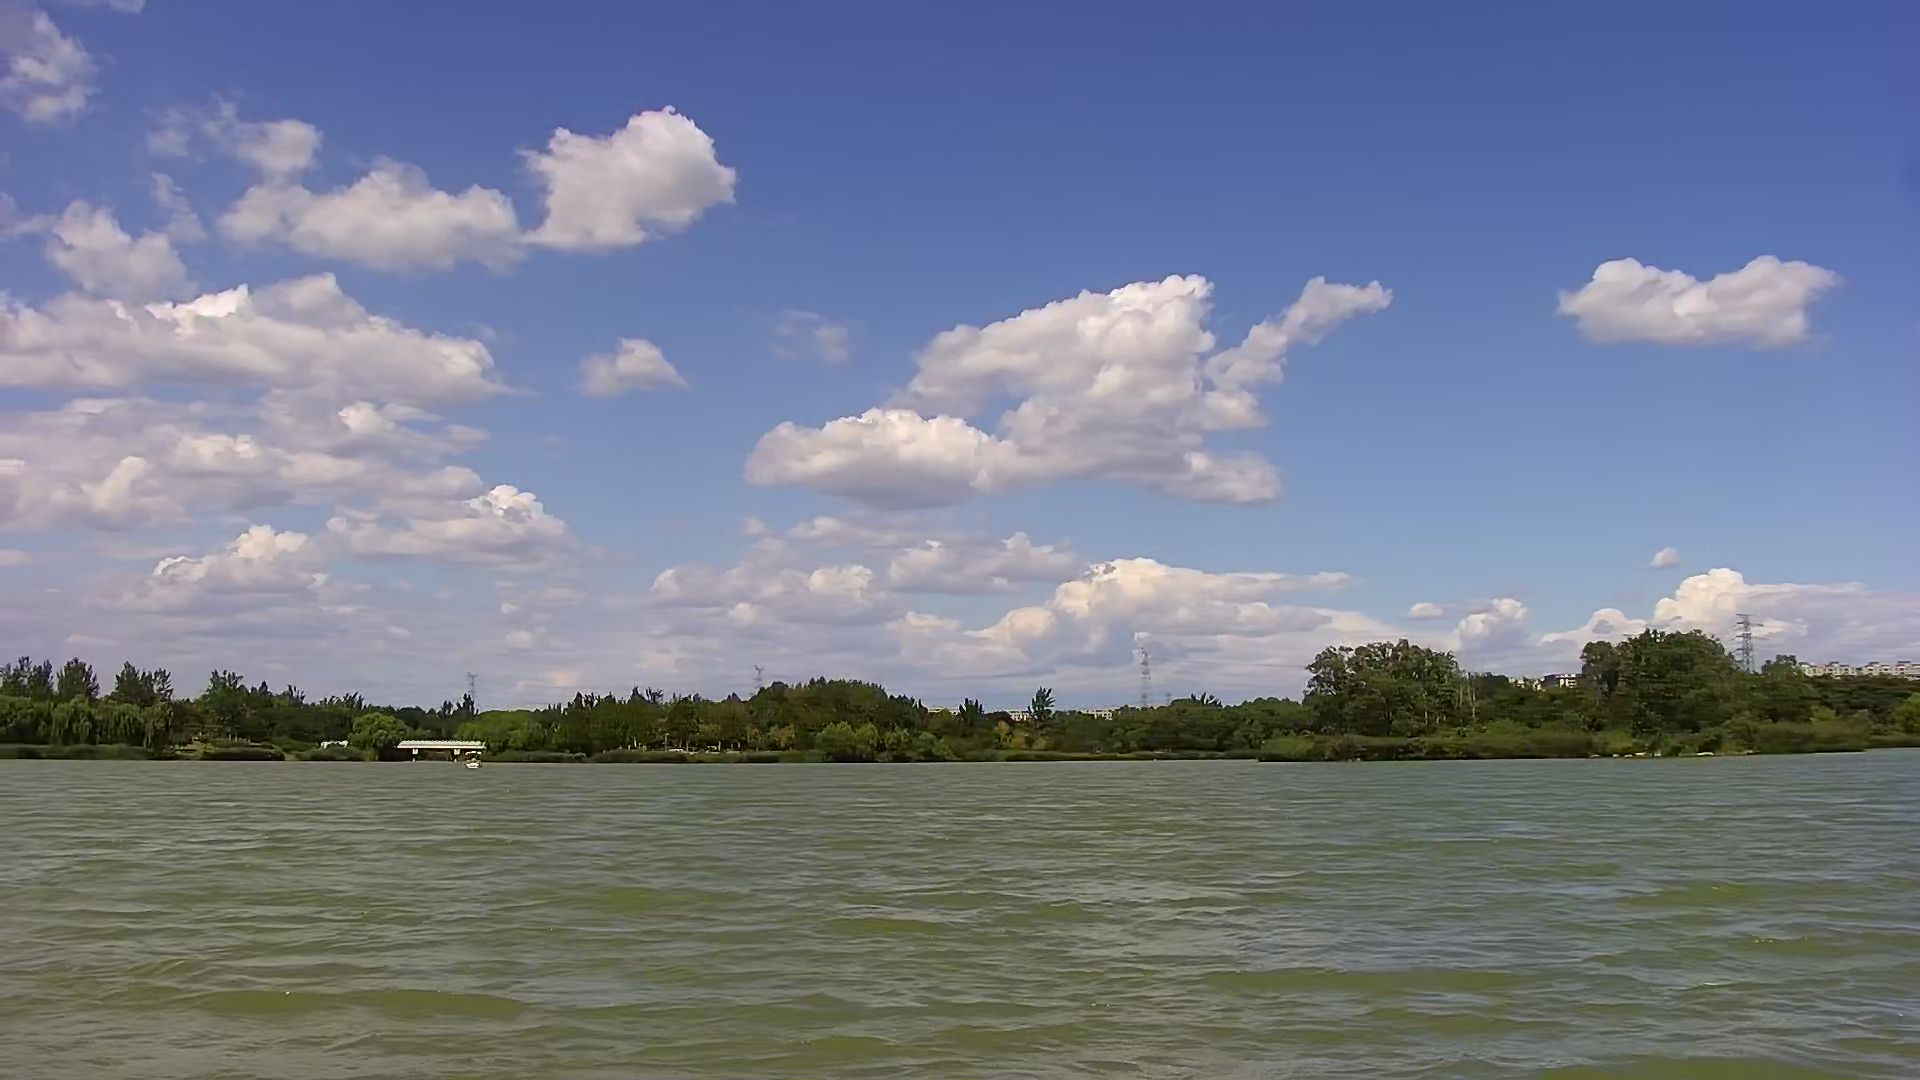bridge: (396, 732, 485, 758)
